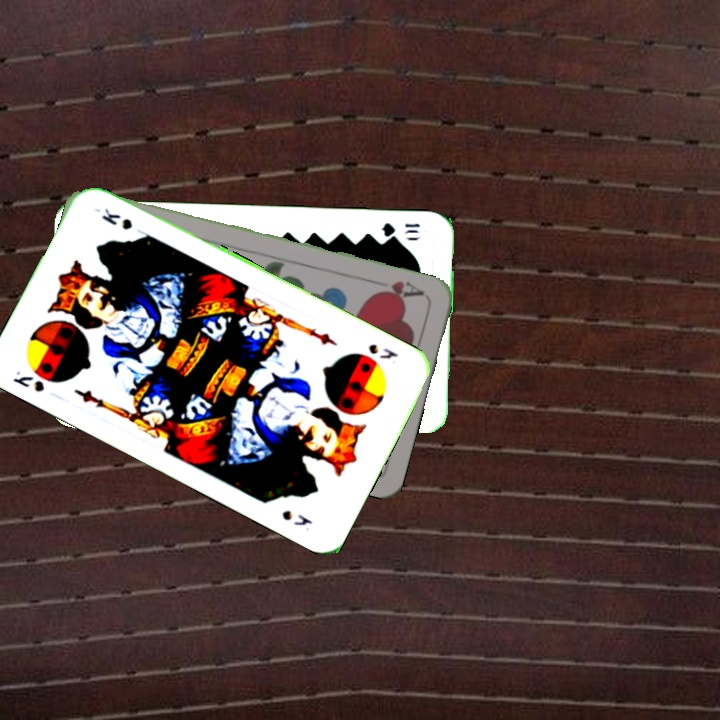G10: (378, 219, 422, 239)
HA: (370, 276, 427, 303)
SK: (8, 366, 47, 395), (364, 339, 401, 362)
